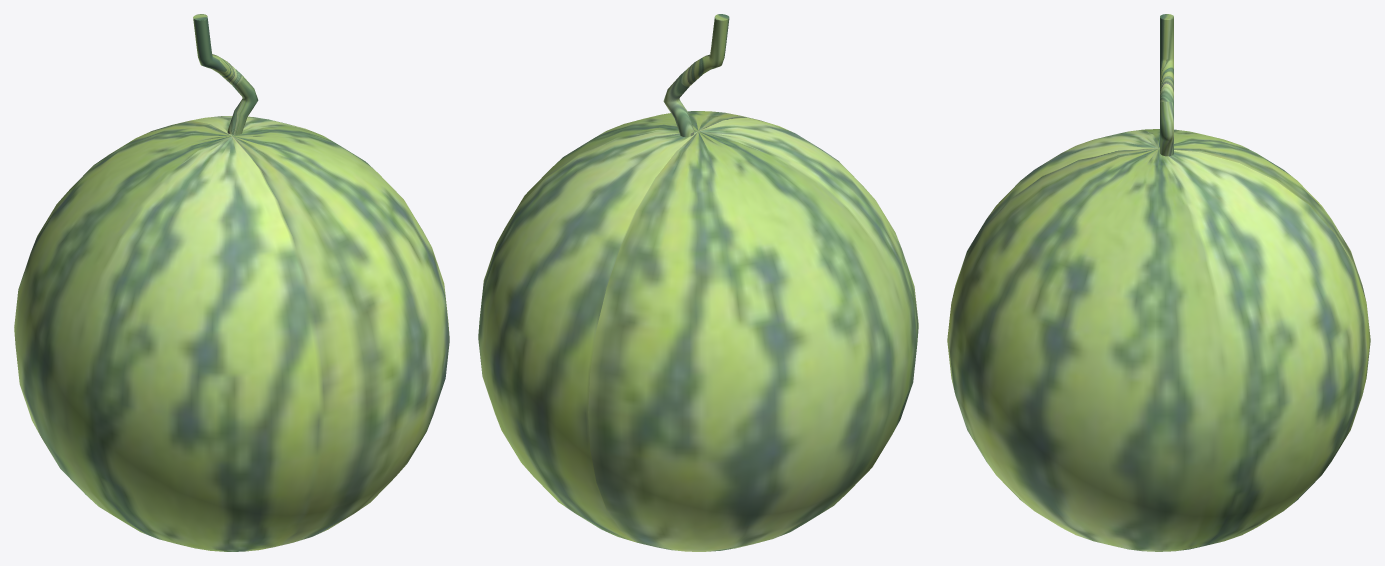
Rendered from xigua2.FBX.
3 renders of one model, left to right at view 1: azimuth 30°, elevation 25°; view 2: azimuth 150°, elevation 25°; view 3: azimuth 270°, elevation 25°, orthographic. The views are drawn at different scales.
Parts seen in each view (by area): view 1: Sphere001, Loft001; view 2: Sphere001, Loft001; view 3: Sphere001, Loft001.
Boxes of the visible parts, x1,y1,x2,y2 form: Sphere001: (14, 116, 449, 551); Loft001: (193, 14, 258, 134); Sphere001: (478, 111, 918, 551); Loft001: (663, 14, 729, 137); Sphere001: (947, 129, 1370, 551); Loft001: (1160, 14, 1173, 156).
Size of the model in its own units: 11.81 by 15.48 by 11.81.
